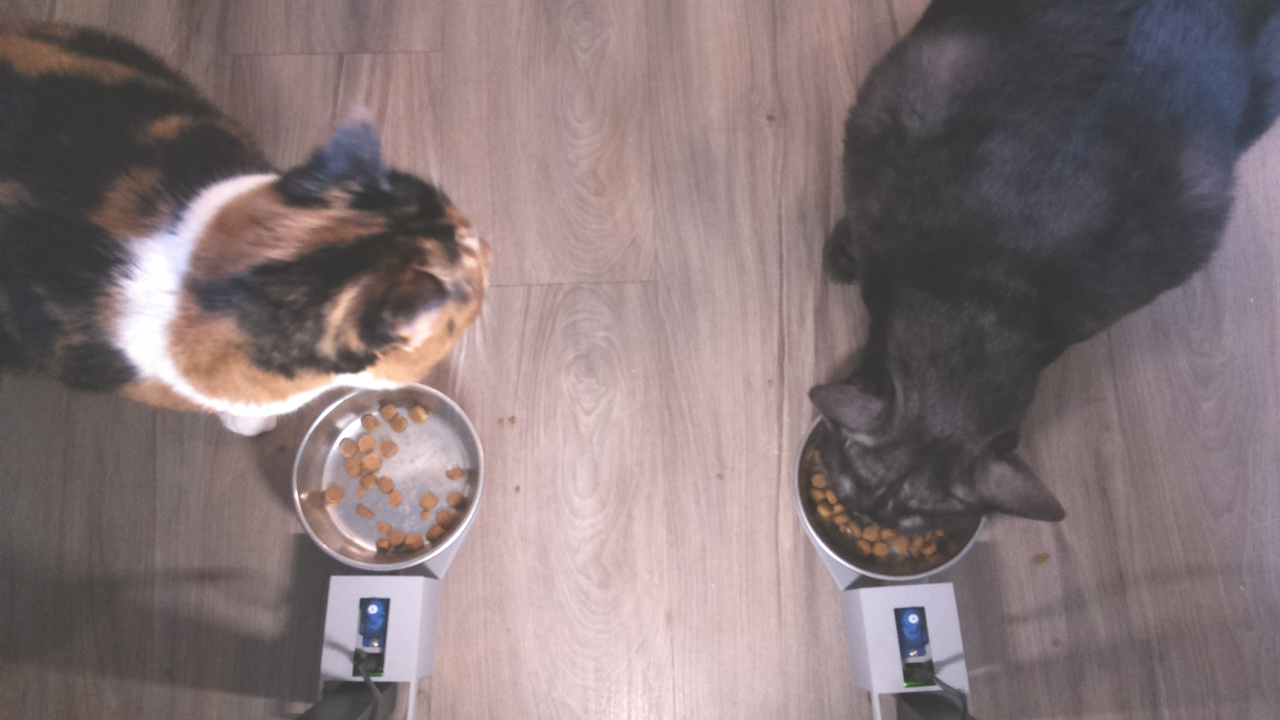bella: (239, 108, 508, 399)
open_bowl: (286, 379, 486, 578)
saki_eating: (790, 305, 1070, 591)
